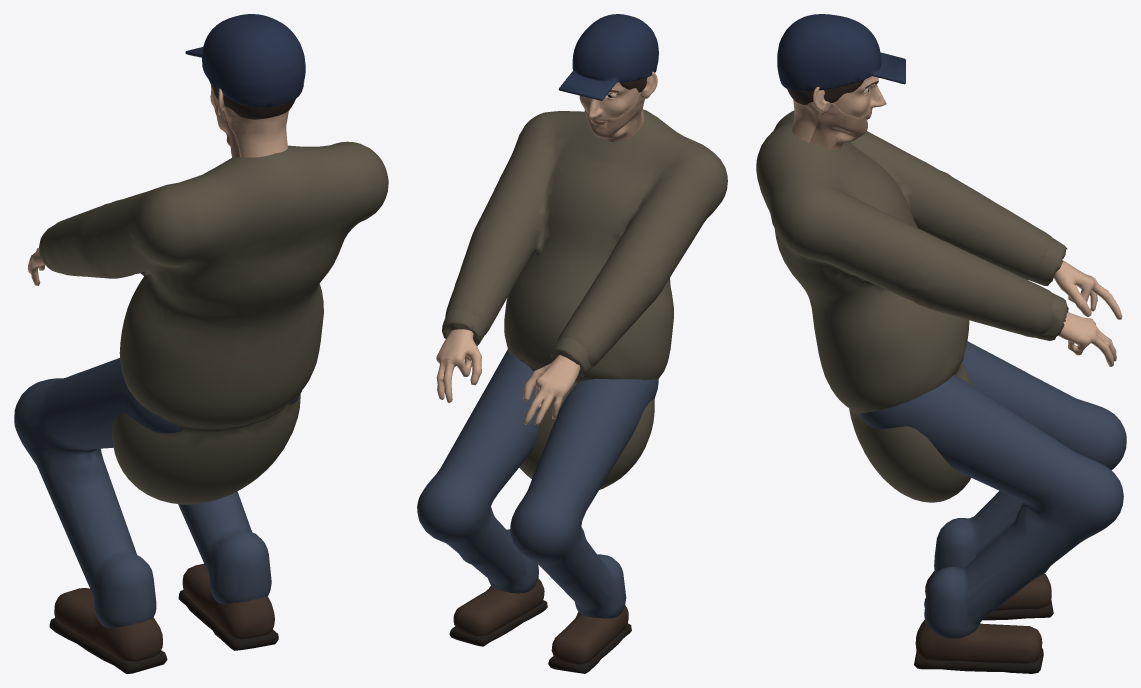
File: scratch.glb
3 views of the same model, side by side, from view 1: azimuth 30°, elevation 25°; view 2: azimuth 150°, elevation 25°; view 3: azimuth 270°, elevation 25° (orthographic). The views are drawn at different scales.
Parts seen in each view (by area): view 1: scratch_body, scratch_head, scratch_hands; view 2: scratch_body, scratch_head, scratch_hands; view 3: scratch_body, scratch_head, scratch_hands.
Boxes of the visible parts, x1,y1,x2,y2 form: scratch_body: (14, 141, 388, 673); scratch_head: (185, 14, 305, 157); scratch_hands: (27, 226, 60, 285); scratch_body: (417, 109, 727, 673); scratch_head: (558, 14, 658, 142); scratch_hands: (436, 309, 593, 425); scratch_body: (756, 110, 1126, 673); scratch_head: (777, 14, 905, 150); scratch_hands: (1030, 237, 1122, 366).
Size of the model in its own units: 0.5277 by 1.42 by 0.7685.
